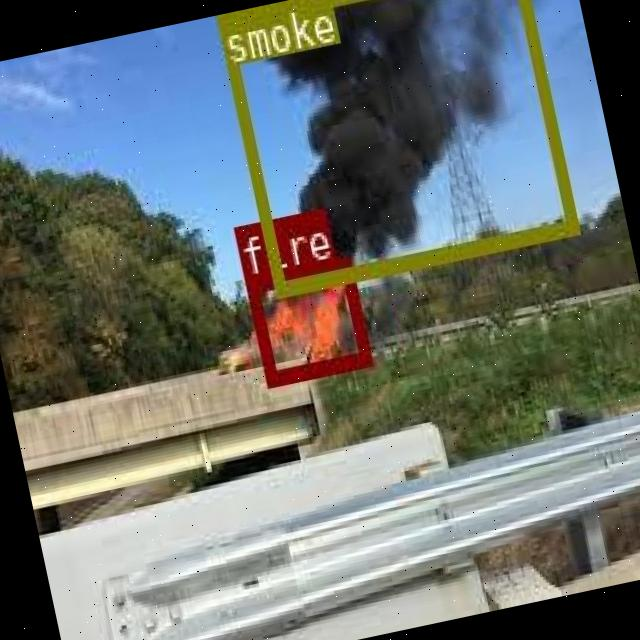fire: (242, 255, 370, 385)
smoke: (216, 0, 574, 292)
